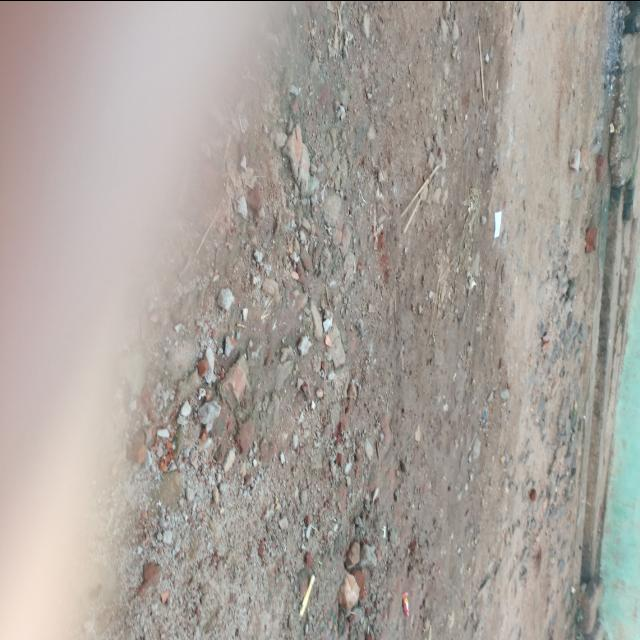potholes: (276, 383, 442, 640)
